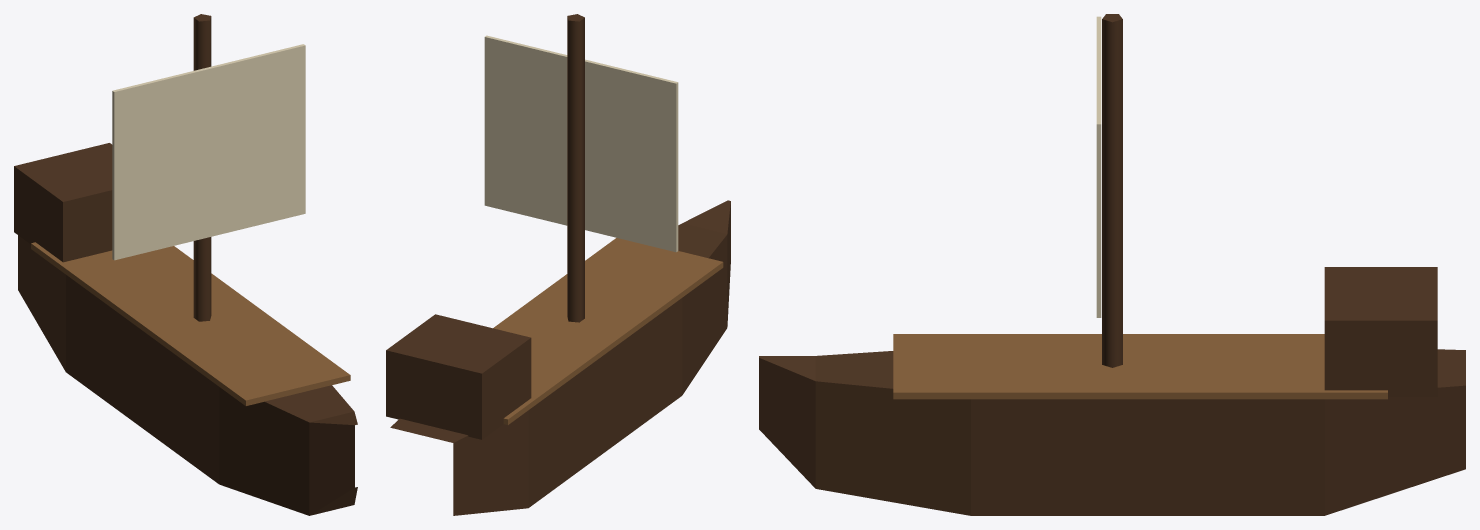
Rendered from veh_naval_fishing_a03_lod2.glb.
3 renders of one model, left to right at view 1: azimuth 30°, elevation 25°; view 2: azimuth 150°, elevation 25°; view 3: azimuth 270°, elevation 25°, orthographic. The views are drawn at different scales.
Parts seen in each view (by area): view 1: body, sail_0; view 2: body, sail_0; view 3: body, sail_0.
Boxes of the visible parts, box(x1,y1,x2,y2) form: body: box(14, 14, 357, 515); sail_0: box(112, 44, 305, 260); body: box(386, 14, 730, 515); sail_0: box(484, 35, 678, 252); body: box(759, 14, 1465, 515); sail_0: box(1096, 16, 1101, 317).
Size of the model in its own units: 2.81 by 5.76 by 7.8.
